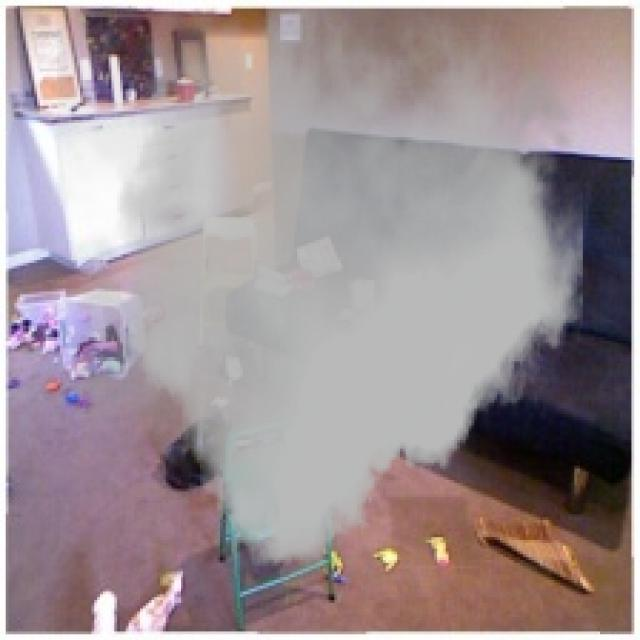smoke: (57, 8, 592, 566)
